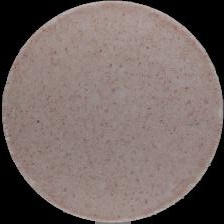0185-0130: (0, 0, 224, 224)
